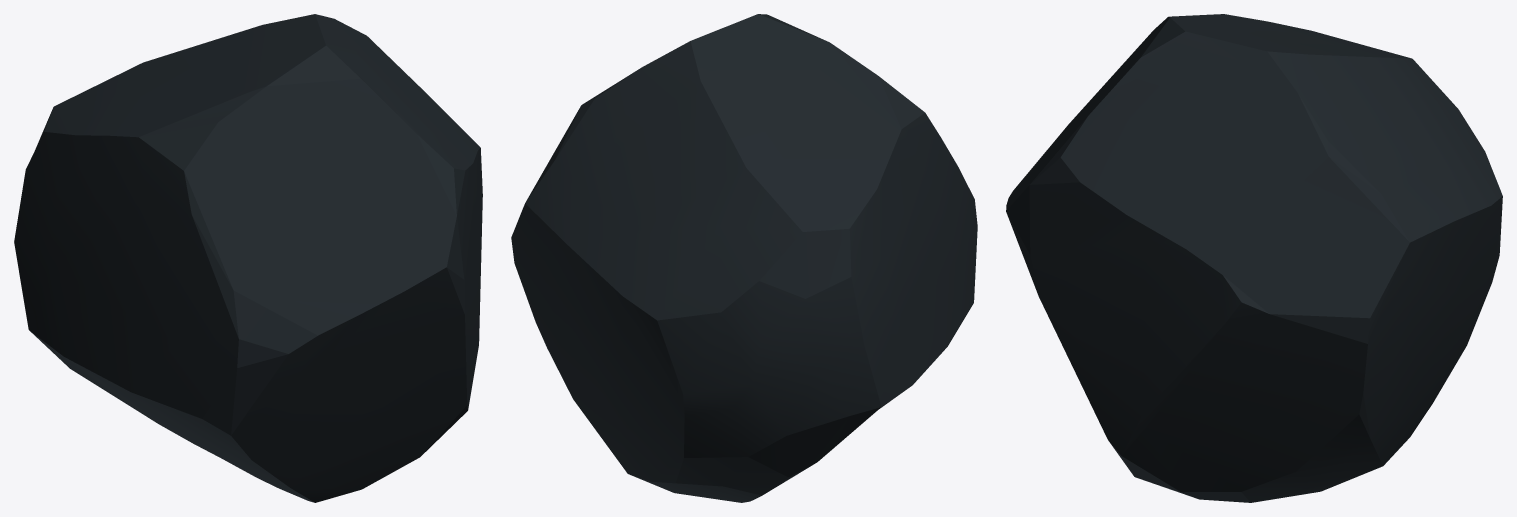
Rendered from Asteroid_s_16.FBX.
3 views of the same model, side by side, from view 1: azimuth 30°, elevation 25°; view 2: azimuth 150°, elevation 25°; view 3: azimuth 270°, elevation 25° (orthographic). The views are drawn at different scales.
Visible parts, largest first — view 1: Asteroid_s_16; view 2: Asteroid_s_16; view 3: Asteroid_s_16.
Part boxes in pixels (<box>): Asteroid_s_16: <box>14,14,482,502</box>; Asteroid_s_16: <box>511,14,977,502</box>; Asteroid_s_16: <box>1006,14,1502,502</box>.
Size of the model in its own units: 175 by 192 by 189.
